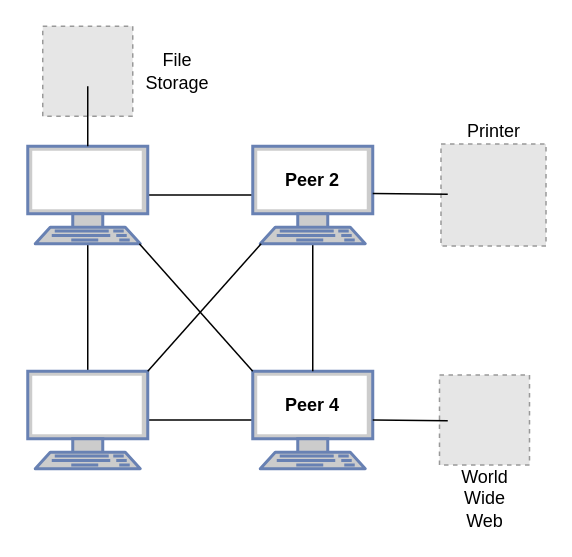
The diagram is 572 pixels wide and 557 high, and some of its shapes have lost their labels. Grey dashed boxes stand in for pictures. The shapes that lost their labels are listed below. From the top down, each one's box as (x1, y1, x2, y2) in pixels, then its label:
(26, 144, 148, 244): Peer 1
(26, 369, 148, 470): Peer 3
